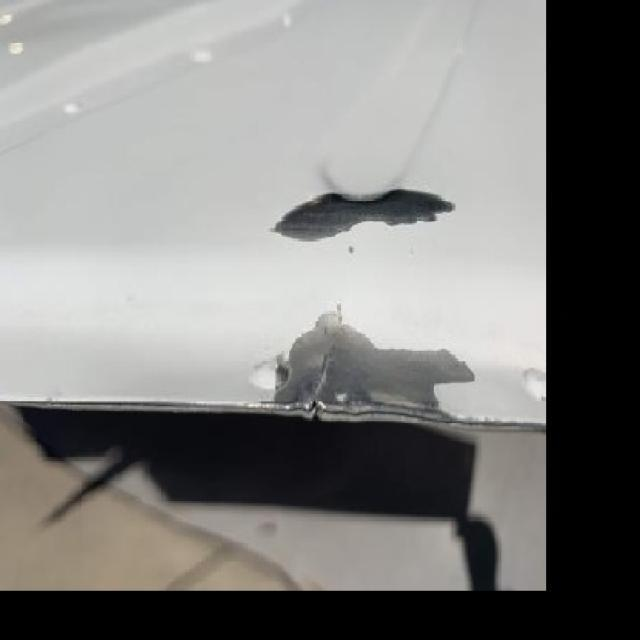crack: (306, 324, 351, 415)
